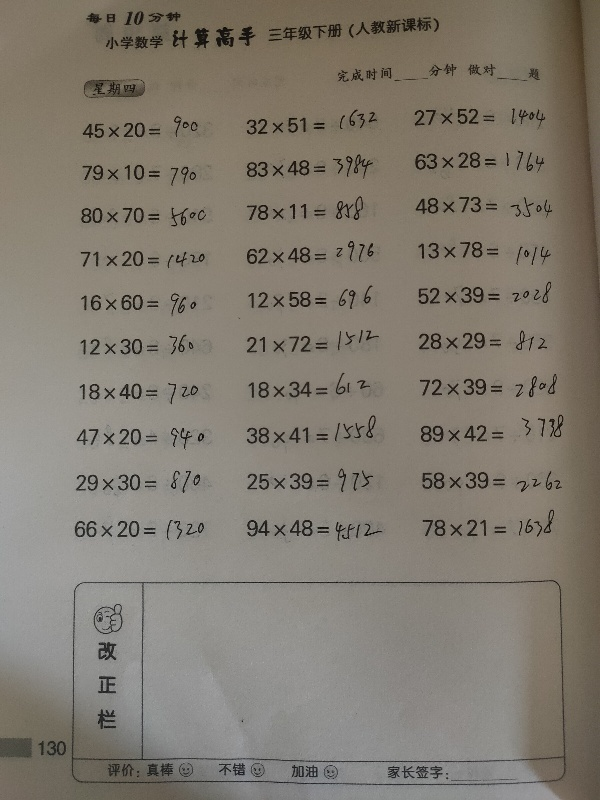equation: (412, 229, 563, 279), (239, 323, 396, 369), (408, 505, 564, 548), (233, 239, 393, 280), (405, 413, 571, 452), (409, 100, 560, 139), (409, 371, 561, 409), (241, 369, 384, 409), (236, 284, 383, 321), (235, 148, 385, 184), (409, 468, 571, 501), (235, 196, 379, 233), (65, 201, 217, 236), (409, 279, 568, 312), (65, 376, 208, 412), (72, 461, 212, 497), (73, 284, 209, 321), (61, 333, 203, 367), (409, 189, 564, 220), (75, 153, 207, 189), (409, 143, 548, 175), (64, 421, 204, 452), (243, 417, 380, 448), (108, 632, 142, 756), (244, 465, 377, 496), (242, 515, 385, 543), (71, 516, 209, 544), (242, 107, 380, 135), (415, 327, 551, 355), (78, 112, 203, 141), (77, 246, 208, 271)
